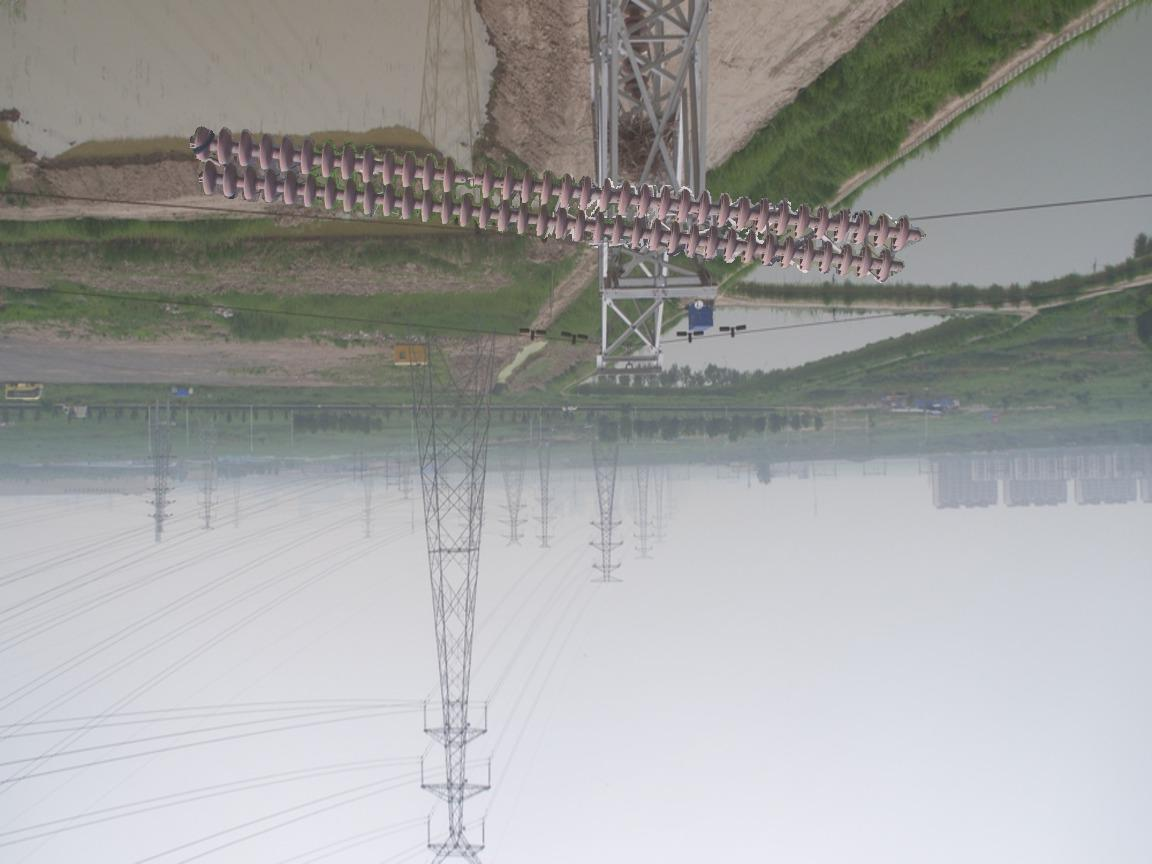insulator: (190, 122, 915, 285), (618, 1, 650, 100)
insulator_stringdrop: (439, 155, 499, 201)
